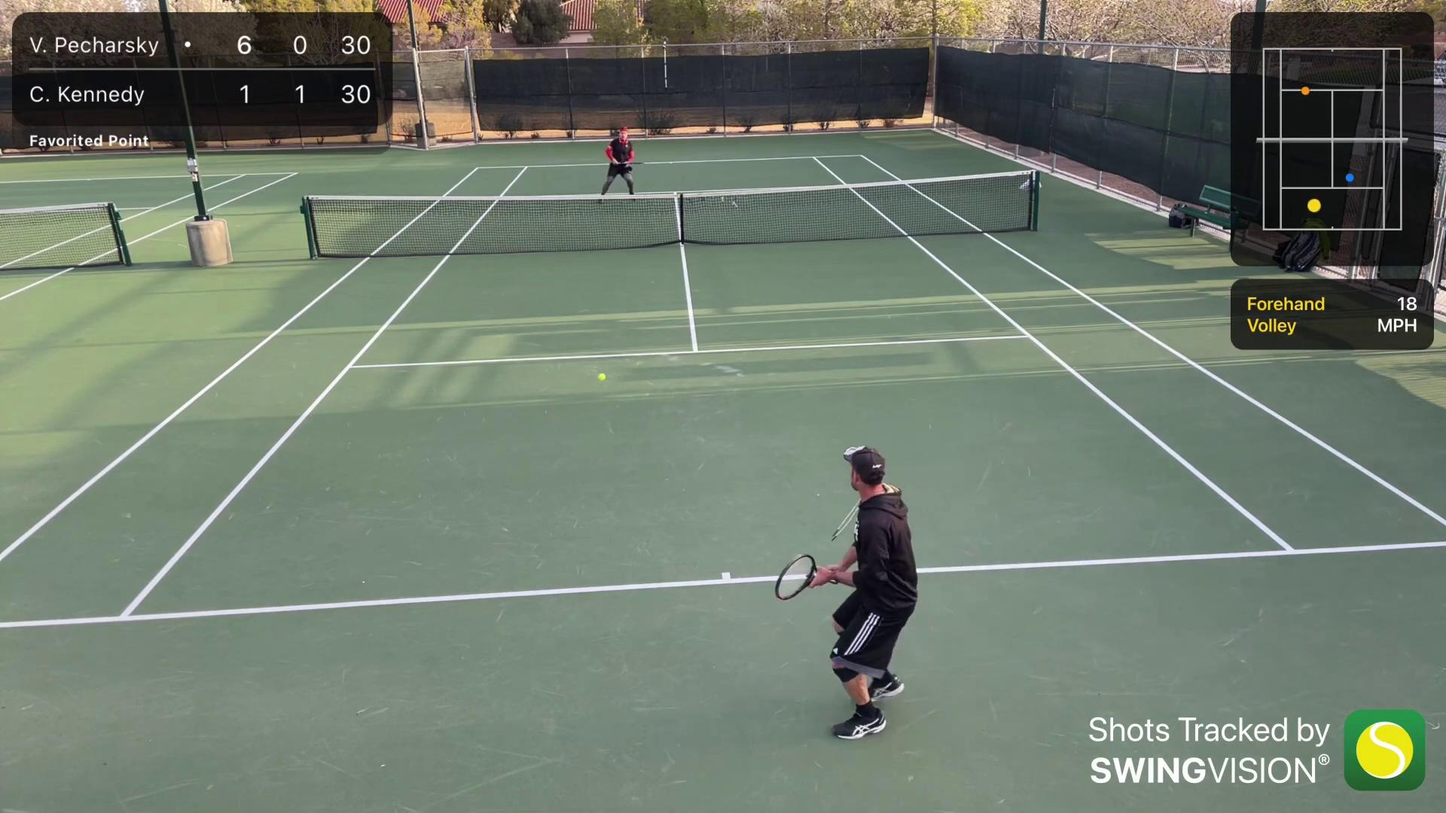ball: (595, 373, 606, 380)
